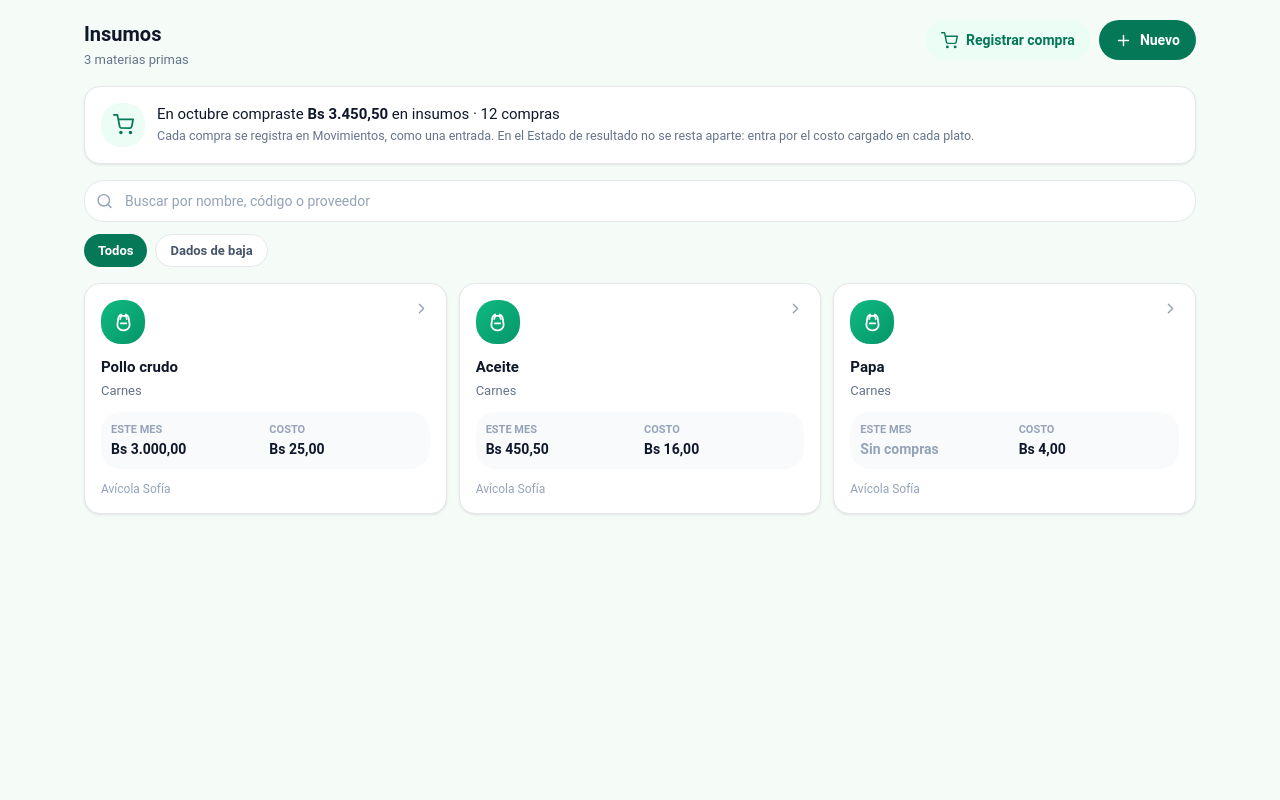
it: Restaurante: lo invertido en el mes › un insumo que no se compró en el mes lo dice en el detalle
The width and height of the screenshot is (1280, 800).
Expected: the heading "Pollo crudo" is shown, [101, 358, 178, 376]
Click the button "Papa Carnes Este mes Sin compras Costo Bs 4,00 Avícola Sofía". click: [872, 322]
box: [833, 283, 1196, 514]
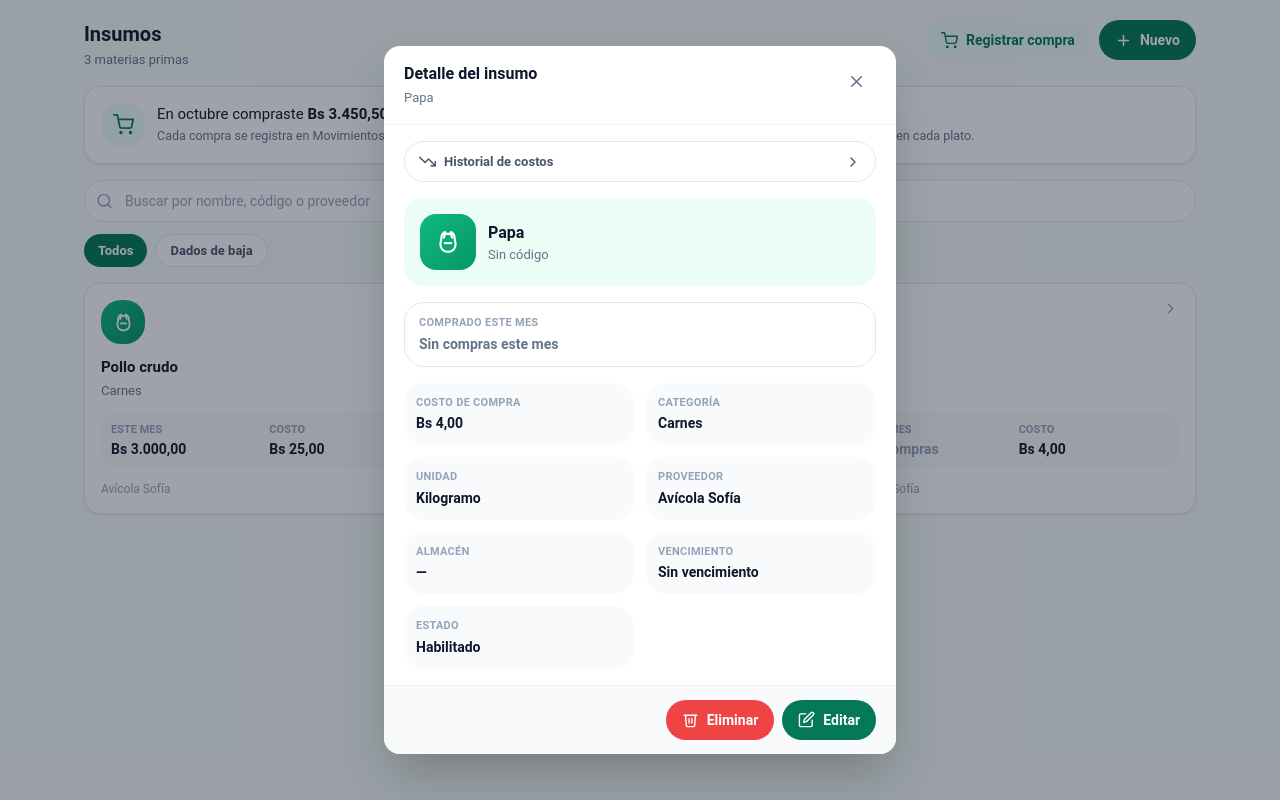
Expected: the element "Comprado este mes" shows "Sin compras este mes", [419, 336, 558, 352]
